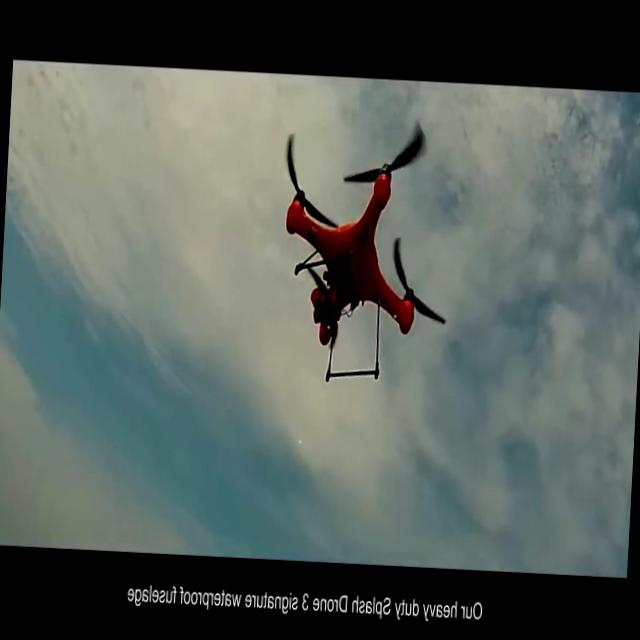drone: (272, 112, 458, 394)
